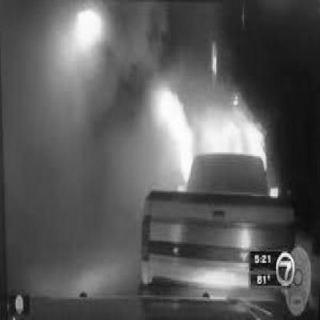Fire: (157, 80, 275, 178)
